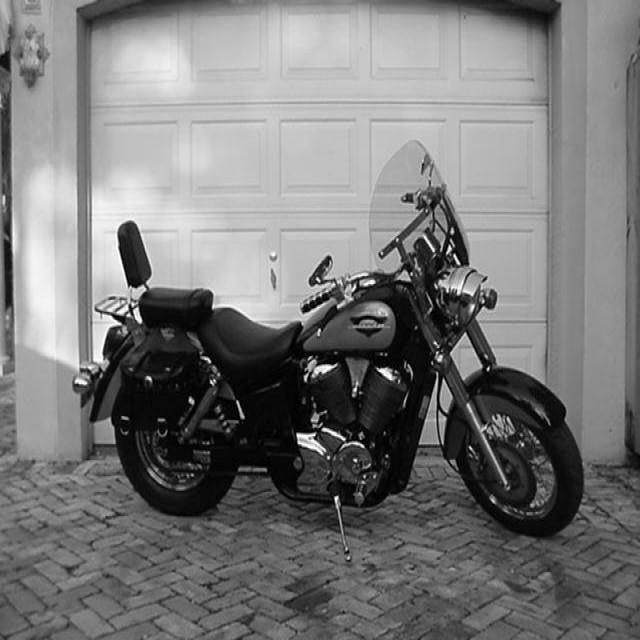Motorcycle: (73, 142, 584, 536)
